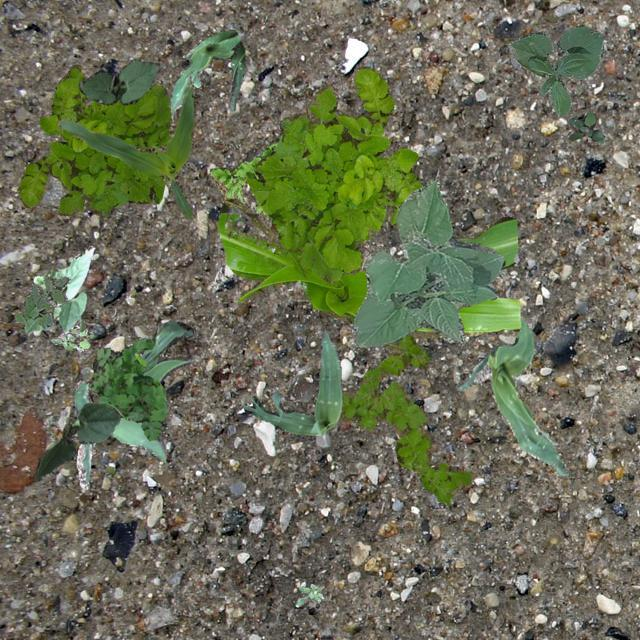crop: (218, 198, 520, 336), (352, 178, 503, 346), (74, 322, 192, 490), (56, 84, 192, 216), (456, 316, 568, 474), (242, 328, 342, 436), (507, 24, 602, 116), (170, 29, 244, 120), (32, 402, 118, 479), (24, 245, 94, 332), (78, 58, 162, 104)
weed: (244, 66, 422, 282), (18, 62, 170, 216), (336, 333, 471, 504), (88, 338, 166, 440), (209, 142, 275, 214), (13, 276, 68, 328), (51, 318, 92, 350), (568, 110, 604, 140), (294, 584, 322, 606)
